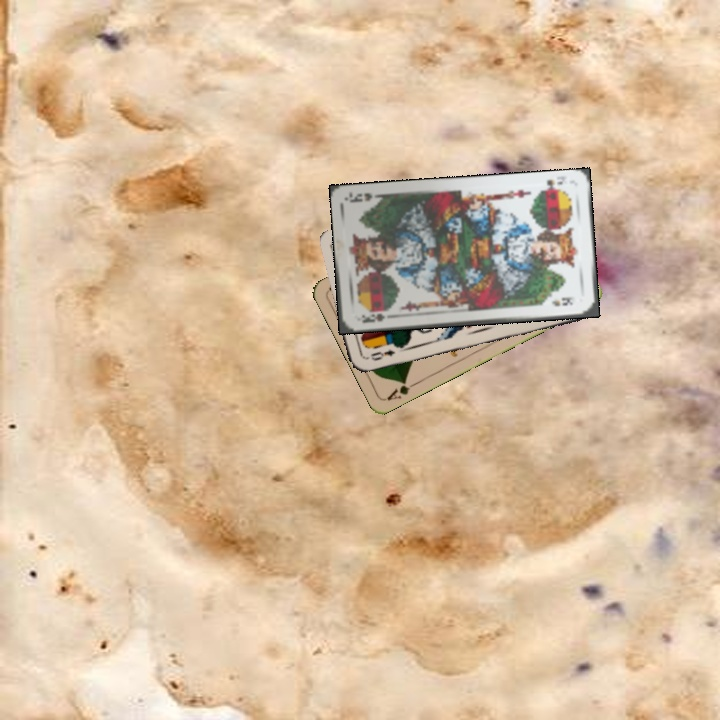EO: (366, 345, 398, 364)
GA: (383, 376, 420, 404)
SK: (357, 306, 391, 325), (536, 176, 569, 194)
